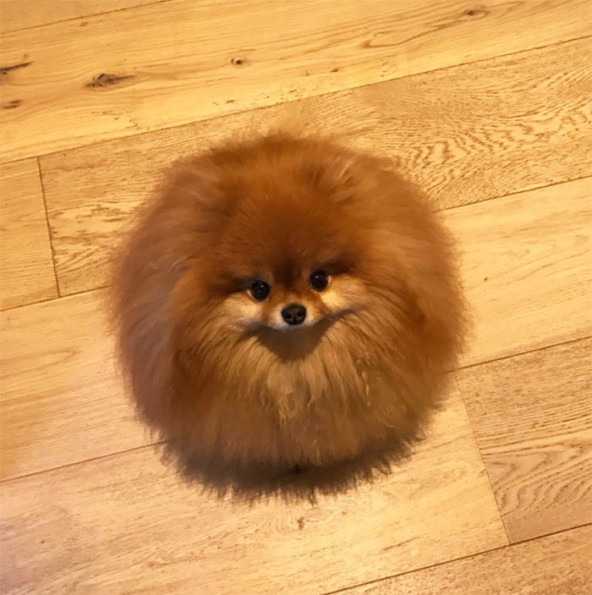pomeranian: (100, 120, 488, 512)
